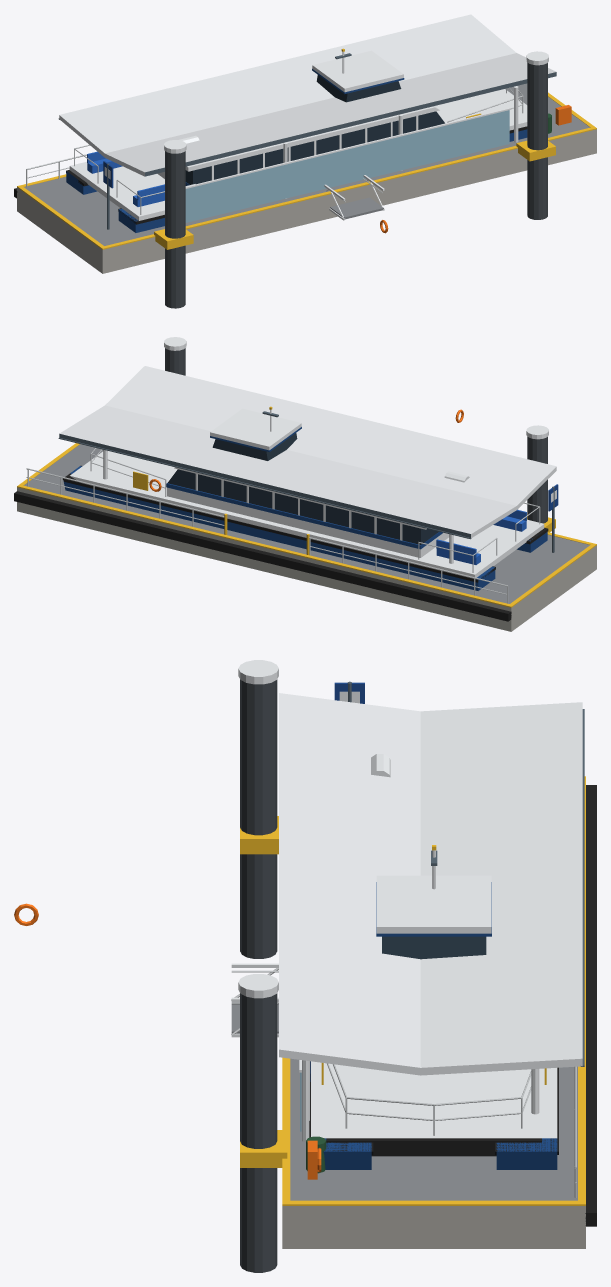
File: citycat.glb
The picture shows the model from 3 angles, top to bottom: view 1: azimuth 30°, elevation 25°; view 2: azimuth 150°, elevation 25°; view 3: azimuth 270°, elevation 25°; orthographic projection. The views are drawn at different scales.
Parts seen in each view (by area): view 1: Terminal, CityCat, GangwaySpan; view 2: Terminal, CityCat; view 3: Terminal, CityCat, GangwaySpan.
Part boxes in pixels (x1,y1,x2,y2): Terminal: (14,14,596,308); CityCat: (66,48,527,233); GangwaySpan: (324,175,384,220); Terminal: (14,337,596,631); CityCat: (63,406,548,590); Terminal: (238,660,596,1272); CityCat: (14,754,558,1169); GangwaySpan: (231,963,278,1037).
Size of the model in its own units: 30 by 9.61 by 17.28.
